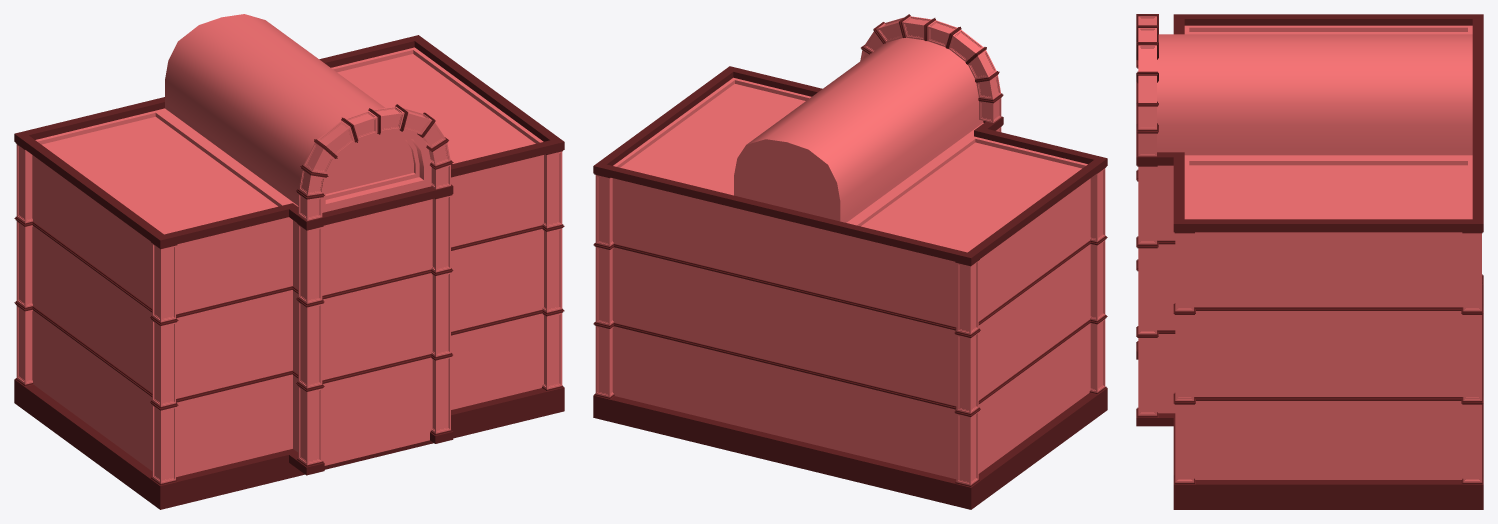
Rendered from Building_03.fbx.
3 renders of one model, left to right at view 1: azimuth 30°, elevation 25°; view 2: azimuth 150°, elevation 25°; view 3: azimuth 270°, elevation 25°, orthographic. The views are drawn at different scales.
Visible parts, largest first — view 1: Building_03; view 2: Building_03; view 3: Building_03.
Boxes of the visible parts, x1=… form: Building_03: x1=14, y1=14, x2=564, y2=509; Building_03: x1=593, y1=14, x2=1107, y2=509; Building_03: x1=1136, y1=14, x2=1483, y2=509.
Size of the model in its own units: 2670 by 2257 by 1871.
